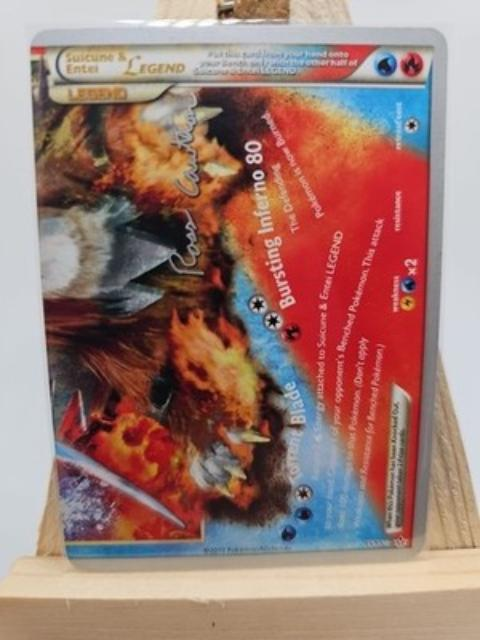Card: (26, 24, 450, 575)
Name: (56, 45, 191, 83)
